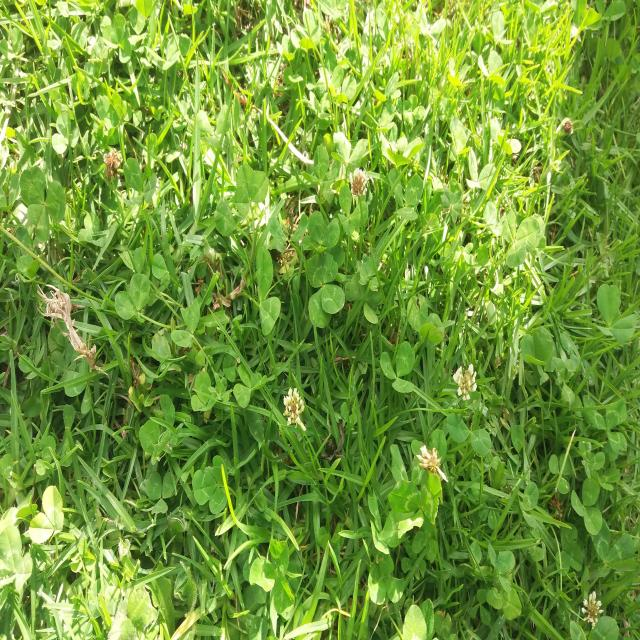Four Leaf Clover: (306, 252, 345, 328)
